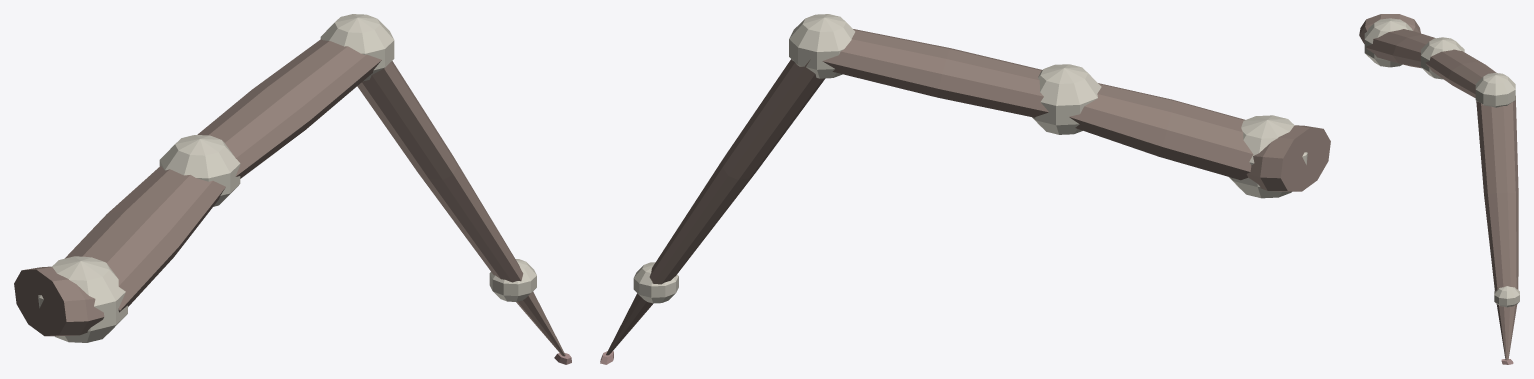
Rendered from crab_leg_r2_original_01.glb.
The picture shows the model from 3 angles, left to right: view 1: azimuth 30°, elevation 25°; view 2: azimuth 150°, elevation 25°; view 3: azimuth 270°, elevation 25°; orthographic projection. The views are drawn at different scales.
Parts seen in each view (by area): view 1: R2Segment2, R2Segment1, R2Segment3, R2Segment0, R2Articulation1, R2Articulation2, R2Articulation3, R2Articulation4, R2Segment4; view 2: R2Segment2, R2Segment1, R2Segment3, R2Segment0, R2Articulation2, R2Articulation3, R2Articulation1, R2Articulation4, R2Segment4; view 3: R2Segment3, R2Segment2, R2Segment1, R2Articulation3, R2Articulation1, R2Articulation2, R2Segment4, R2Segment0, R2Articulation4.
Boxes of the visible parts, box(x1,y1,x2,y2) form: R2Segment2: box(197, 39, 381, 178); R2Segment1: box(65, 166, 225, 312); R2Segment3: box(357, 61, 523, 282); R2Segment0: box(14, 266, 104, 336); R2Articulation1: box(38, 256, 127, 342); R2Articulation2: box(159, 135, 240, 206); R2Articulation3: box(320, 14, 394, 81); R2Articulation4: box(489, 259, 536, 301); R2Segment4: box(516, 291, 565, 356); R2Segment2: box(822, 29, 1048, 117); R2Segment1: box(1069, 83, 1253, 180); R2Segment3: box(649, 59, 825, 284); R2Segment0: box(1246, 125, 1330, 191); R2Articulation2: box(1032, 64, 1101, 134); R2Articulation3: box(789, 14, 855, 78); R2Articulation1: box(1229, 115, 1307, 198); R2Articulation4: box(633, 262, 678, 303); R2Segment4: box(606, 293, 653, 355); R2Segment3: box(1476, 96, 1518, 291); R2Segment2: box(1425, 49, 1496, 97); R2Segment1: box(1366, 29, 1435, 68); R2Articulation3: box(1475, 73, 1515, 107); R2Articulation1: box(1364, 18, 1412, 67); R2Articulation2: box(1421, 37, 1464, 79); R2Segment4: box(1496, 304, 1517, 360); R2Segment0: box(1359, 14, 1420, 43); R2Articulation4: box(1494, 286, 1519, 307).
Bounding box in the file's own units: 0.4992 × 0.3023 × 0.1927.
